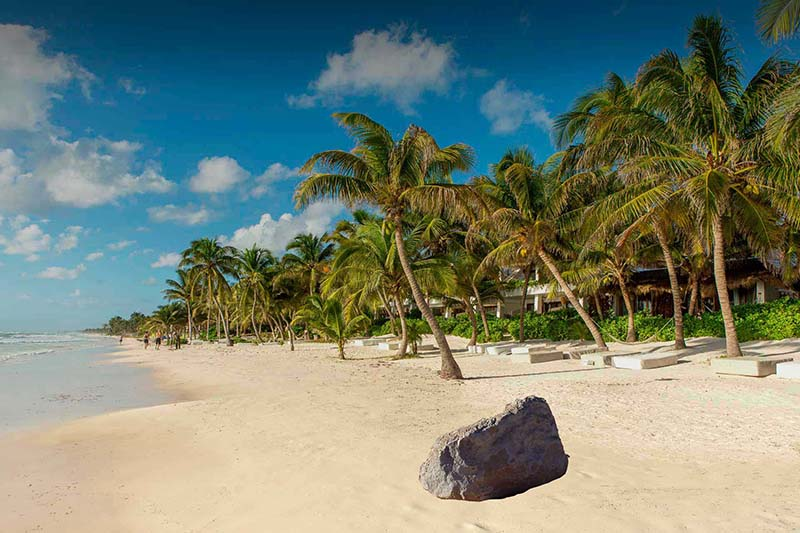Rocks: (412, 391, 571, 504)
